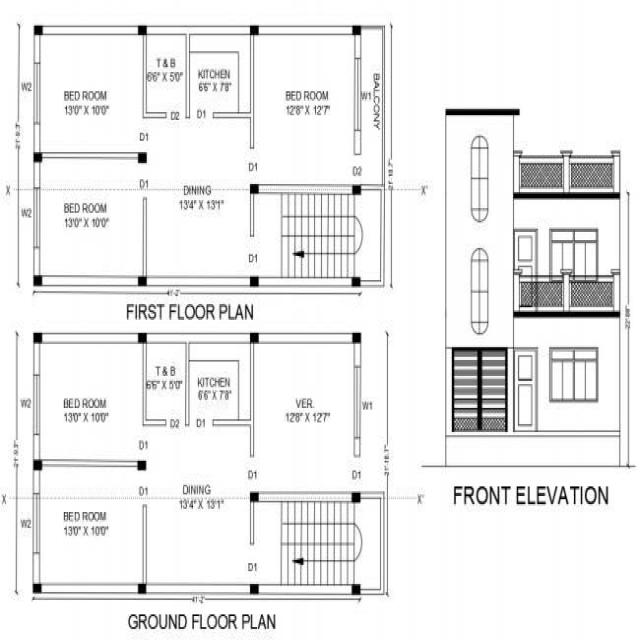Blueprint: (26, 321, 393, 610), (26, 18, 393, 300)
column: (31, 457, 44, 473), (248, 182, 261, 197), (350, 275, 363, 290), (32, 149, 44, 165), (32, 273, 44, 289), (137, 330, 149, 346), (351, 330, 363, 346), (248, 274, 261, 288), (349, 491, 362, 505), (136, 581, 148, 596), (136, 150, 148, 165), (249, 331, 261, 346), (249, 22, 260, 38), (249, 489, 260, 505), (32, 330, 44, 344), (136, 458, 148, 472), (136, 274, 148, 288), (351, 23, 363, 37), (32, 581, 43, 596), (351, 182, 362, 197), (32, 24, 44, 37), (136, 24, 148, 37), (249, 582, 260, 596), (351, 582, 362, 596)
wall: (144, 580, 252, 598), (40, 330, 140, 348), (144, 331, 252, 347), (40, 580, 140, 597), (256, 580, 354, 597), (256, 330, 354, 347), (145, 23, 252, 38), (40, 273, 140, 289), (256, 489, 354, 505), (257, 182, 354, 198), (258, 274, 354, 290), (144, 274, 252, 288), (40, 149, 140, 164), (257, 23, 354, 38), (39, 455, 139, 469), (247, 337, 258, 461), (40, 24, 140, 36), (248, 32, 256, 151), (379, 487, 387, 598), (184, 328, 192, 431), (379, 181, 386, 292), (141, 31, 149, 120), (184, 23, 191, 121), (141, 338, 148, 429), (141, 502, 148, 588), (141, 195, 148, 279), (211, 416, 256, 428), (212, 110, 256, 120), (31, 549, 42, 586), (32, 340, 42, 380), (140, 416, 168, 430), (32, 120, 42, 158), (358, 584, 386, 597), (358, 278, 386, 291), (31, 466, 42, 498), (359, 489, 386, 502), (249, 499, 256, 549), (32, 32, 42, 67), (249, 190, 256, 240), (32, 244, 42, 278), (32, 430, 42, 463), (352, 341, 362, 372), (352, 127, 362, 158), (32, 159, 41, 192), (358, 182, 386, 192), (352, 433, 362, 460), (141, 110, 168, 120), (353, 33, 362, 62)
